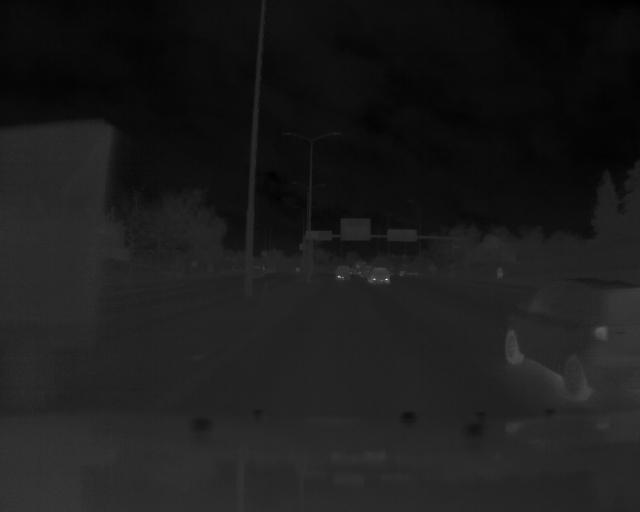car: (502, 276, 640, 400), (364, 264, 393, 286)
